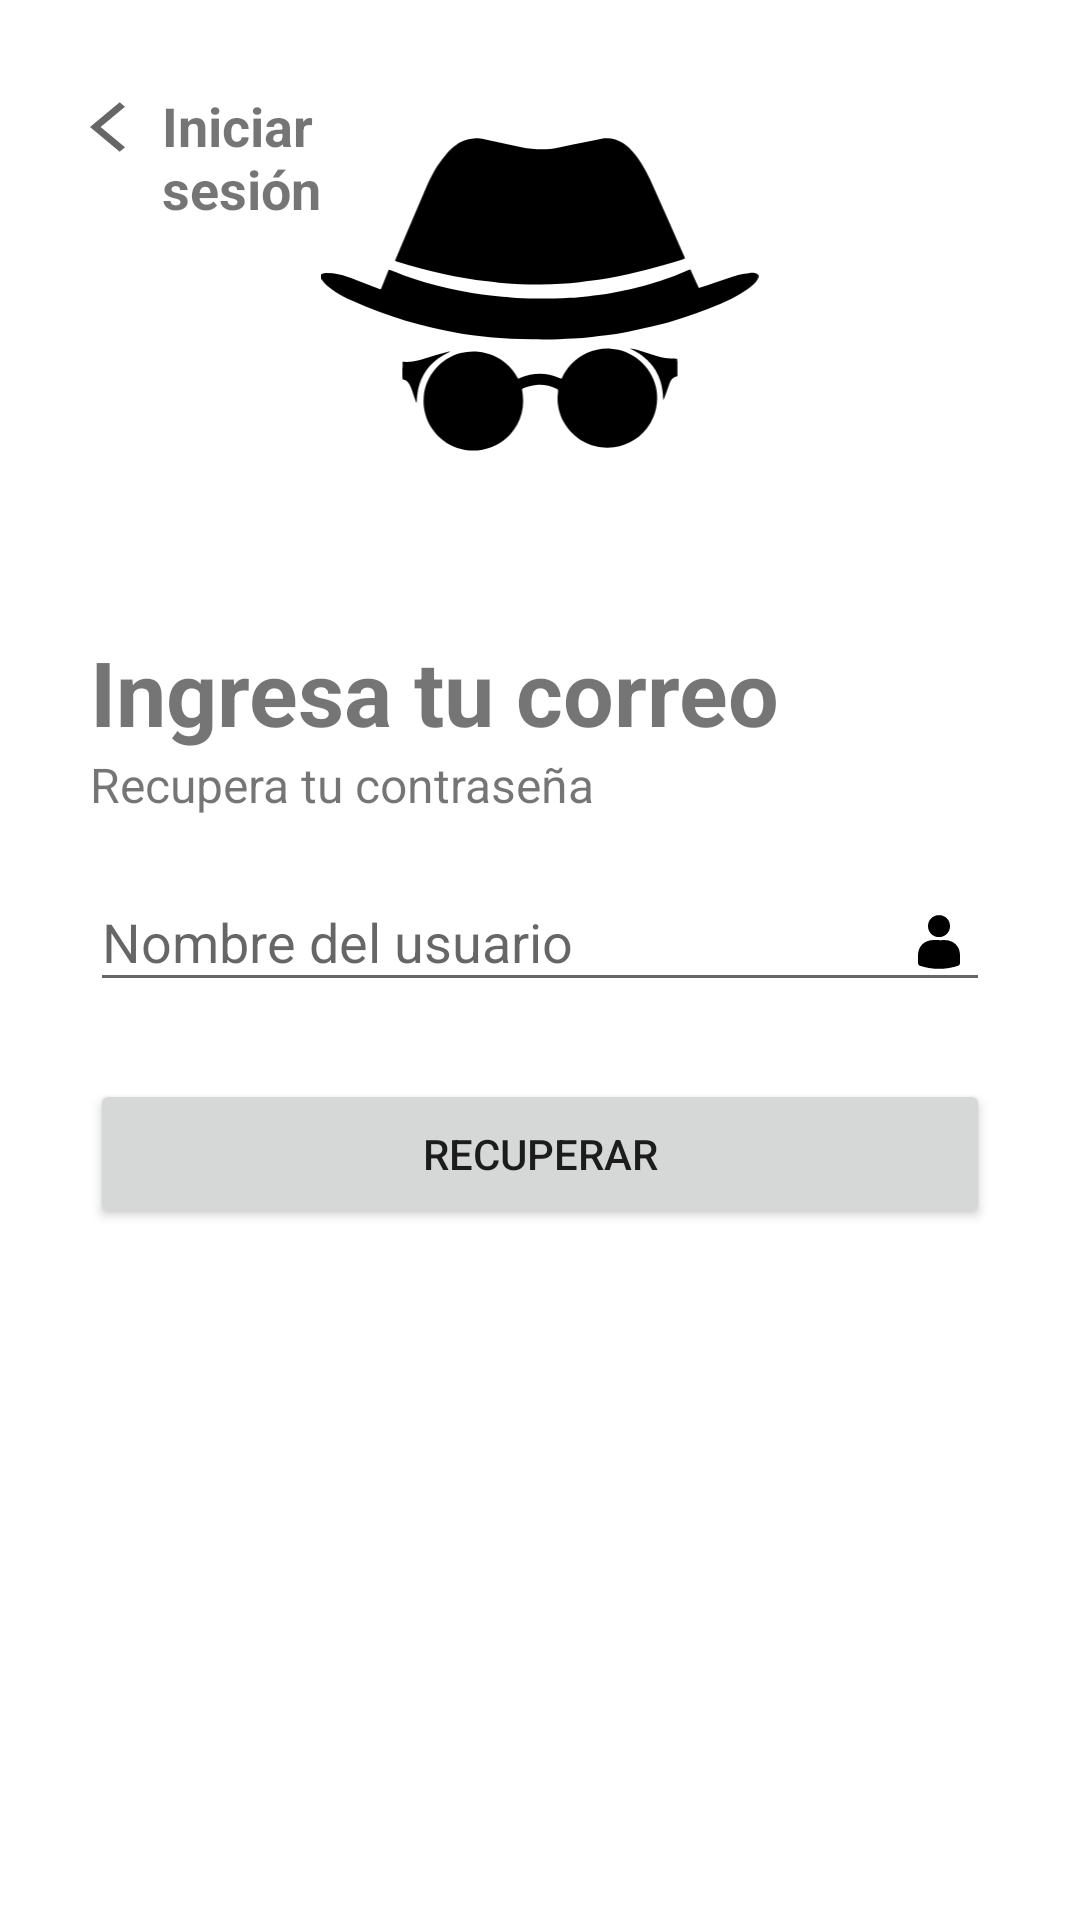

Icons on this 1080×1920 Android screen, each with its box as (x1, y1, x2, y2):
flecha: (90, 102, 125, 152)
